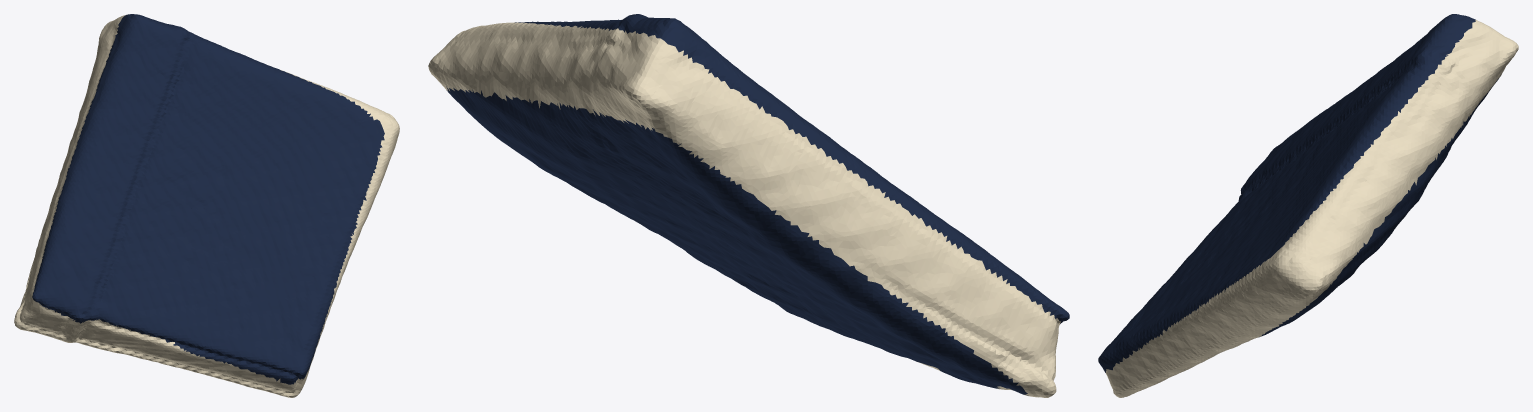
Rendered from journal_semantic.glb.
3 views of the same model, side by side, from view 1: azimuth 30°, elevation 25°; view 2: azimuth 150°, elevation 25°; view 3: azimuth 270°, elevation 25° (orthographic). The views are drawn at different scales.
Parts seen in each view (by area): view 1: RoomOne_Journal; view 2: RoomOne_Journal; view 3: RoomOne_Journal.
Boxes of the visible parts, x1,y1,x2,y2 form: RoomOne_Journal: (14,14,399,397); RoomOne_Journal: (428,14,1069,397); RoomOne_Journal: (1098,14,1518,397).
Bounding box in the file's own units: 2 × 1.46 × 1.51.
